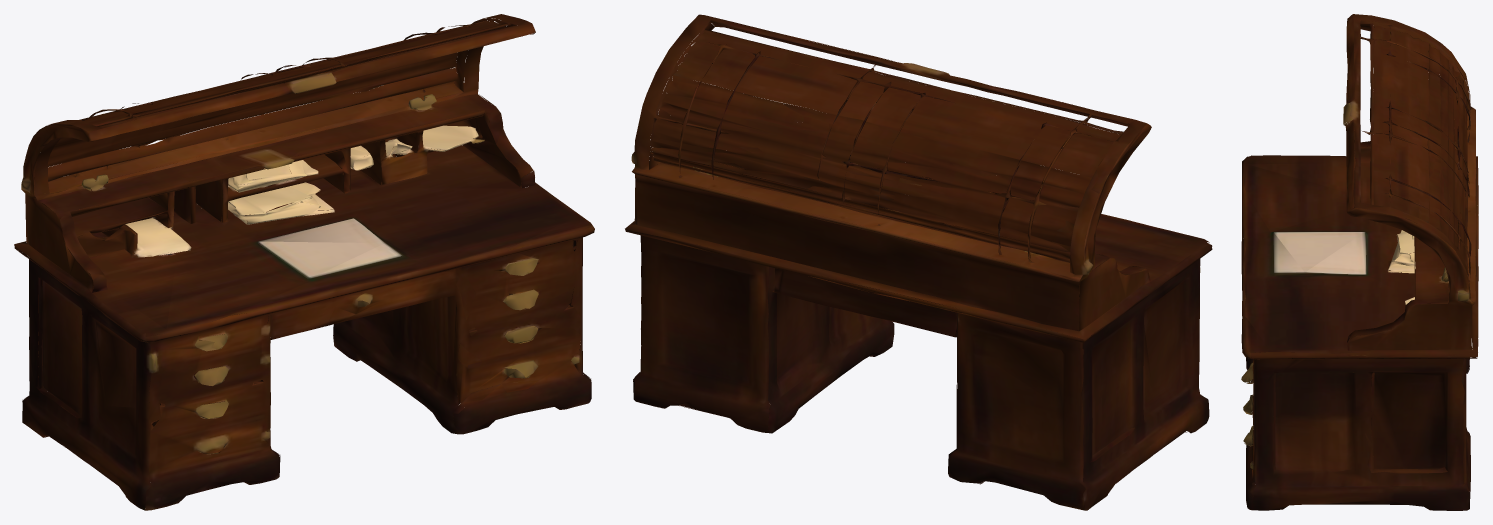
Rendered from escritorio_cortina.glb.
The picture shows the model from 3 angles, left to right: view 1: azimuth 30°, elevation 25°; view 2: azimuth 150°, elevation 25°; view 3: azimuth 270°, elevation 25°; orthographic projection. The views are drawn at different scales.
Visible parts, largest first — view 1: geometry_0; view 2: geometry_0; view 3: geometry_0.
Boxes of the visible parts, left/top/right/bottom form: geometry_0: left=14, top=14, right=594, bottom=510; geometry_0: left=625, top=14, right=1212, bottom=510; geometry_0: left=1241, top=14, right=1478, bottom=510.
Bounding box in the file's own units: 1.7 × 1.2 × 0.8523.
Materials: 1 (1 with a texture image).
